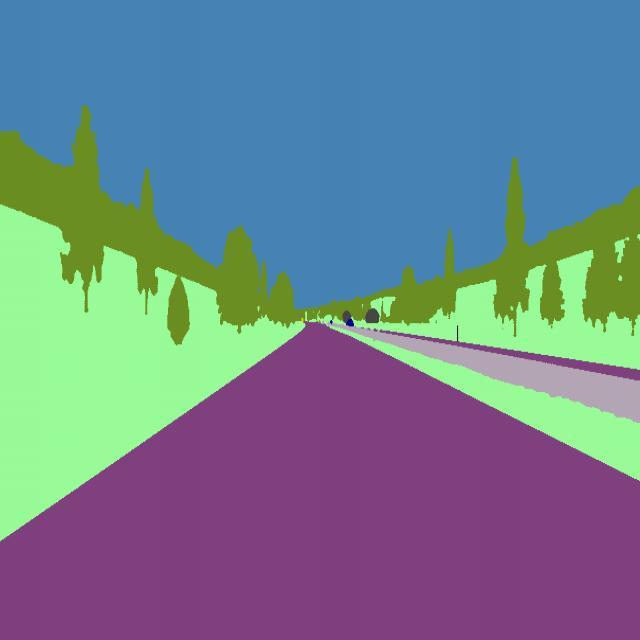safe: (344, 318, 359, 331)
